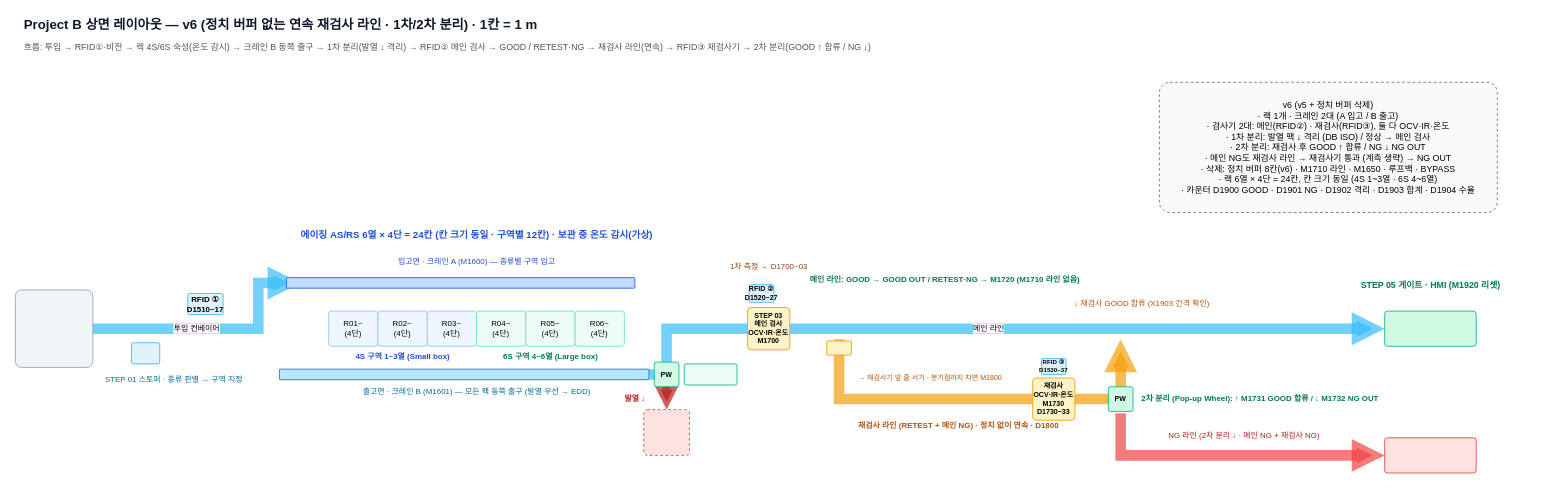
This 1551x488 diagram has some shape labels left out. Each missing label, with the centre of its shape:
"1차 분리 M1660 / M1661" goes at (x=710, y=374).
"GOOD OUT X1900 → D1900" goes at (x=1430, y=328).
"M1690 발열 격리 X1902/D1902 DB ISO" goes at (x=666, y=432).
"M1720" goes at (x=838, y=347).
"NG OUT X1901 → D1901" goes at (x=1430, y=455).
"Project C 인계 4S = 작은 박스 6S = 큰 박스" goes at (x=54, y=328).
"비전 (D1519)" goes at (x=145, y=353).
